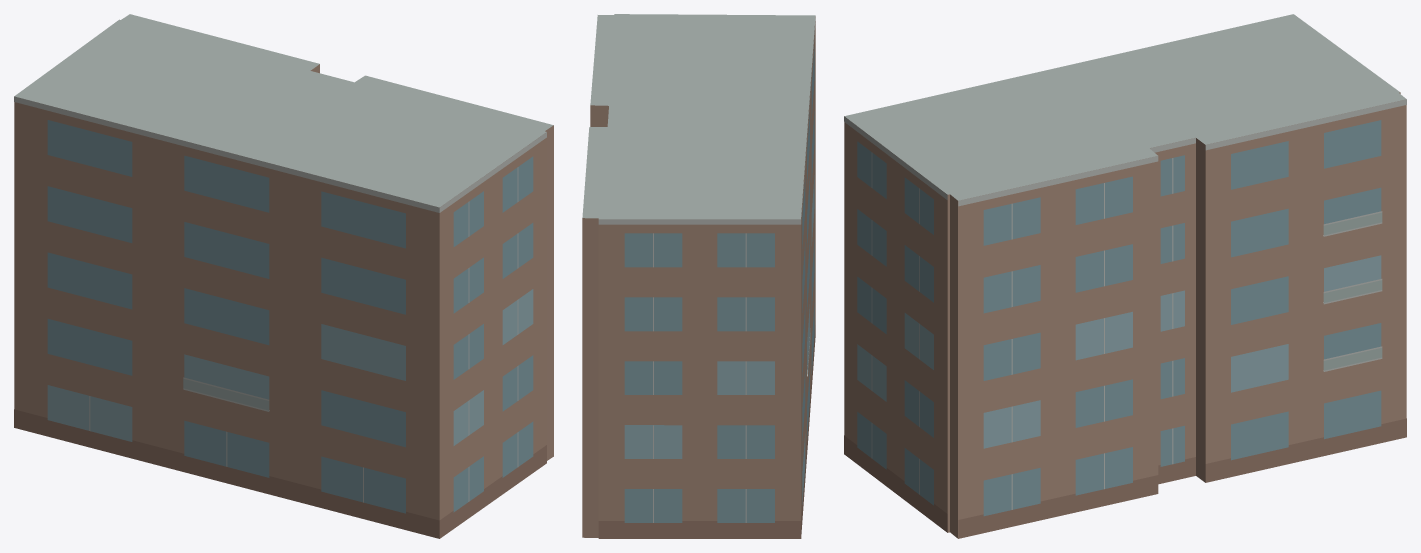
The model's file is survey-upis-32658728.glb.
The picture shows the model from 3 angles, left to right: view 1: azimuth 30°, elevation 25°; view 2: azimuth 150°, elevation 25°; view 3: azimuth 270°, elevation 25°; orthographic projection. The views are drawn at different scales.
Parts seen in each view (by area): view 1: survey-upis-32658728.tmp; view 2: survey-upis-32658728.tmp; view 3: survey-upis-32658728.tmp.
Boxes of the visible parts, x1=… form: survey-upis-32658728.tmp: x1=14, y1=14, x2=553, y2=538; survey-upis-32658728.tmp: x1=582, y1=14, x2=815, y2=538; survey-upis-32658728.tmp: x1=844, y1=14, x2=1406, y2=538.
Bounding box in the file's own units: 17.31 × 14.6 × 22.02.
